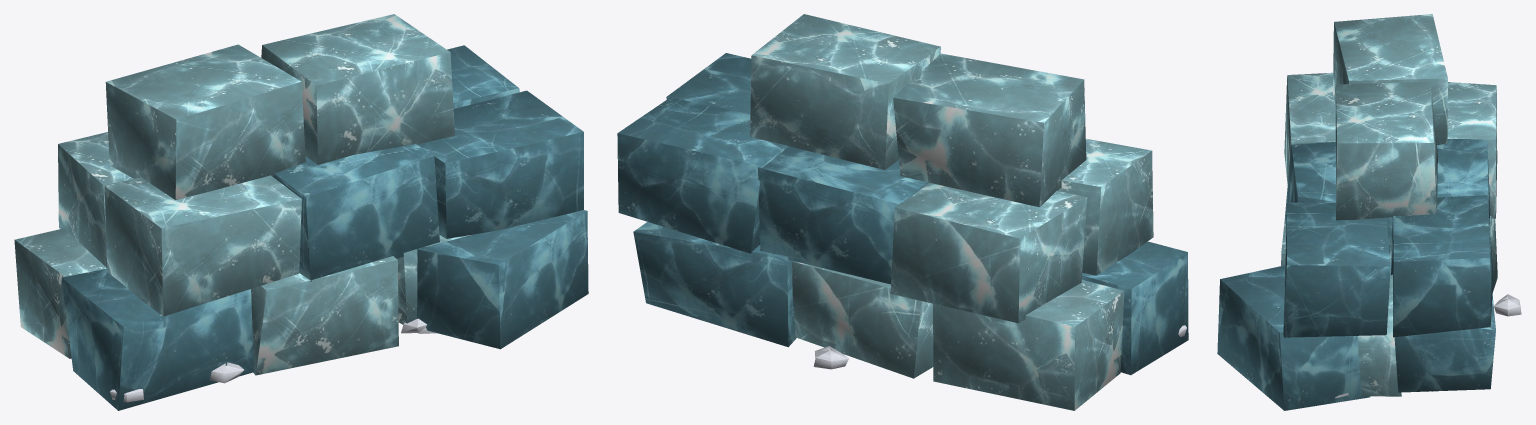
File: kf_ice_blocks.glb
3 renders of one model, left to right at view 1: azimuth 30°, elevation 25°; view 2: azimuth 150°, elevation 25°; view 3: azimuth 270°, elevation 25°, orthographic. The views are drawn at different scales.
Parts seen in each view (by area): view 1: kf_ice_blocks; view 2: kf_ice_blocks; view 3: kf_ice_blocks.
Boxes of the visible parts, x1,y1,x2,y2 form: kf_ice_blocks: (14,14,588,410); kf_ice_blocks: (617,14,1188,410); kf_ice_blocks: (1217,14,1521,410).
Size of the model in its own units: 1.78 by 0.9348 by 1.12.
1 material, 1 textured.
